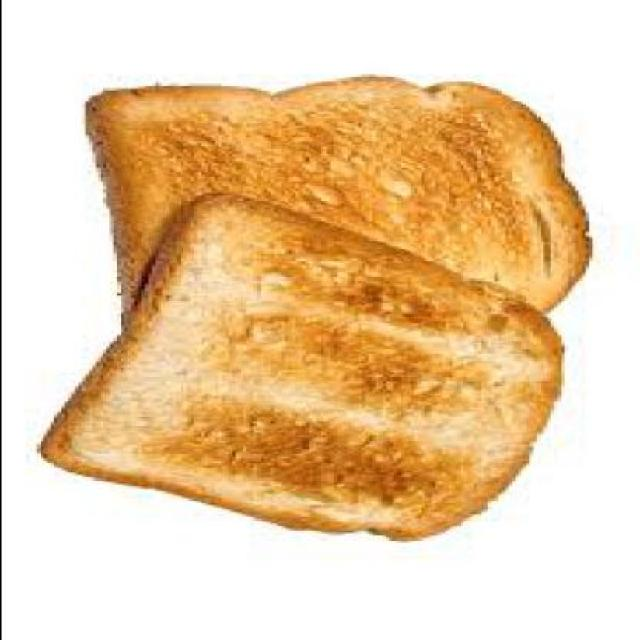BIODEGRADABLE: (42, 193, 567, 541), (87, 76, 595, 329)
